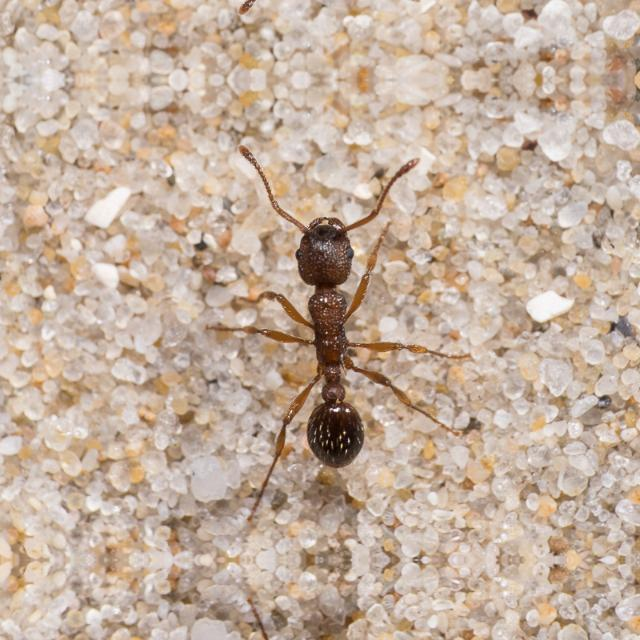Myrmica: (214, 185, 494, 500)
